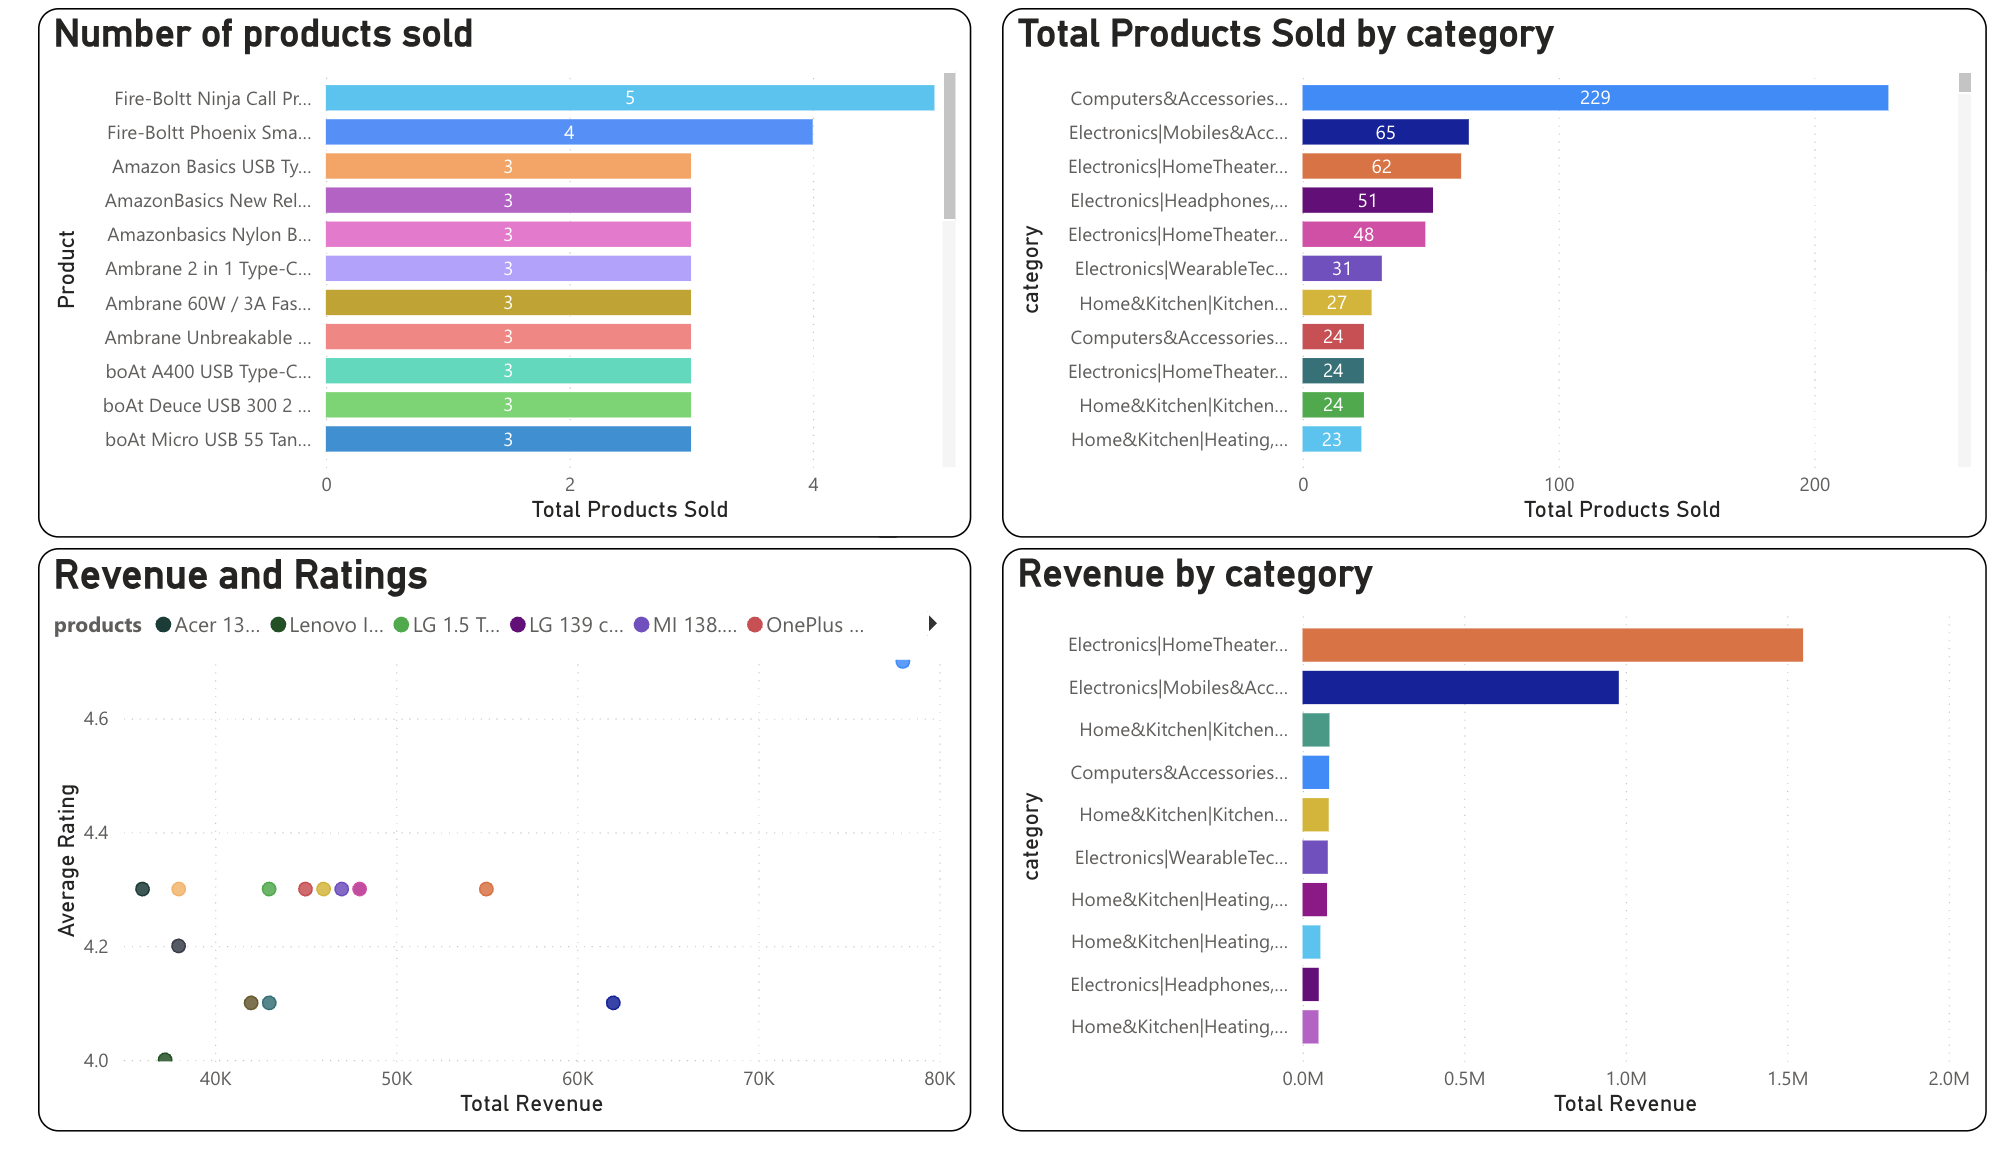

Layout of this report page (visuals, bound fields, positions):
{"tool":"powerbi","page":{"name":"Product Performance","canvas":[1280,720],"ordinal":1},"visuals":[{"type":"scatterChart","title":"Revenue and Ratings","fields":{"X":["fact_amazon_sales.Total Revenue"],"Y":["fact_amazon_sales.Avg Rating"],"Series":["dim_products.product_name"]},"box":[32.5,345.9,588.3,368],"z":0},{"type":"barChart","title":"Revenue by category","fields":{"Category":["dim_products.category"],"Y":["fact_amazon_sales.Total Revenue"],"Series":["dim_products.category"]},"box":[640,345.9,620.8,368],"z":1000},{"type":"barChart","title":"Number of products sold","fields":{"Category":["dim_products.product_name"],"Y":["fact_amazon_sales.Total Products Sold"],"Series":["dim_products.product_name"]},"box":[32.5,4.4,588.3,334],"z":1001},{"type":"barChart","title":"Total Products Sold by category","fields":{"Category":["dim_products.category"],"Y":["fact_amazon_sales.Total Products Sold"],"Series":["dim_products.category"]},"box":[640,4.4,620.8,334],"z":1002}]}

Visuals, with their boxes in screenshot pixels (x1, y1, x2, y2), scaled from the page's 1280x720 canvas onto the 2010x1154 screenshot:
"Revenue and Ratings" scatterChart: x1=51 y1=554 x2=975 y2=1144
"Revenue by category" barChart: x1=1005 y1=554 x2=1980 y2=1144
"Number of products sold" barChart: x1=51 y1=7 x2=975 y2=542
"Total Products Sold by category" barChart: x1=1005 y1=7 x2=1980 y2=542
